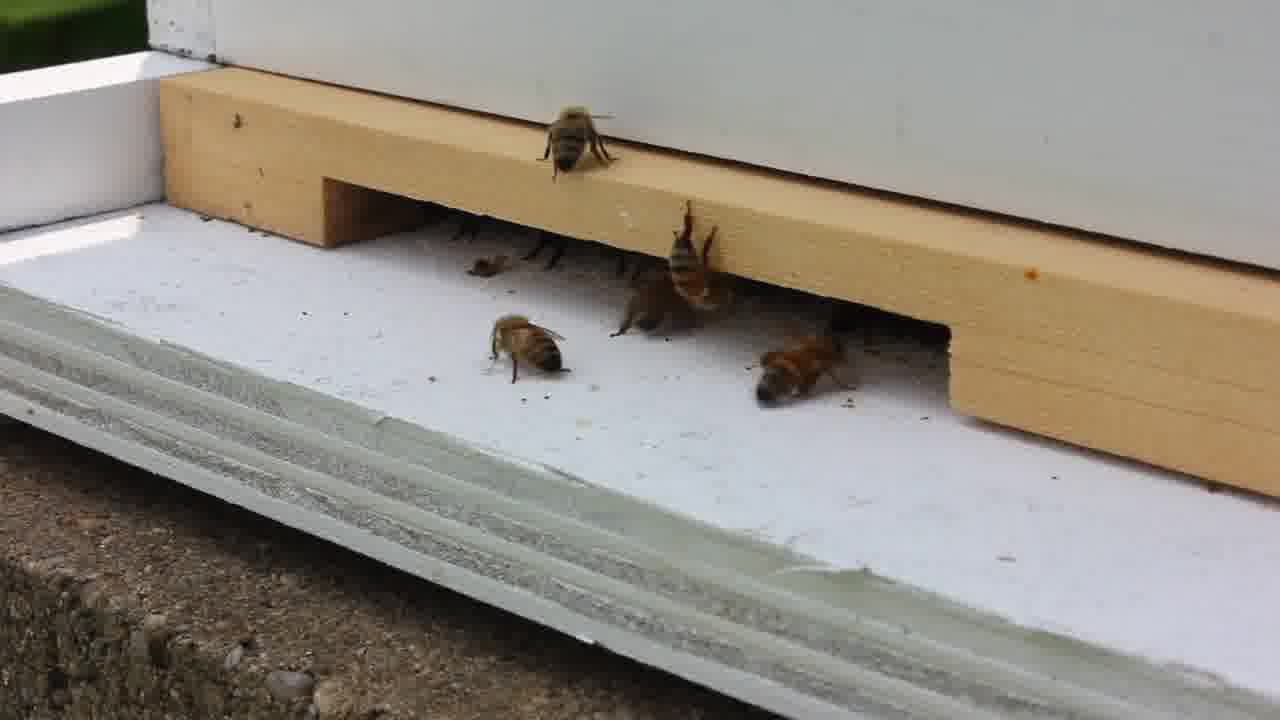pollen: (755, 335, 858, 409)
